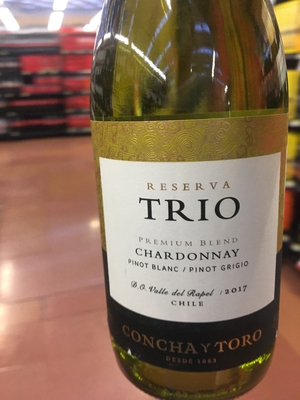trio chardonnay: (87, 16, 285, 400)
